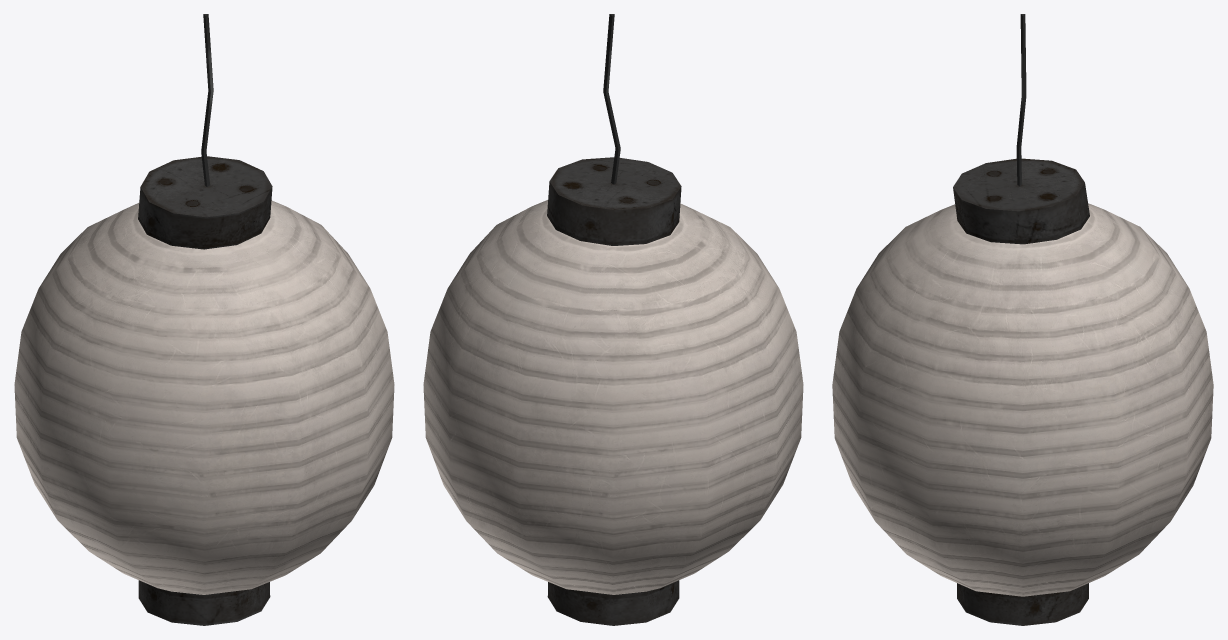
The model's file is Lantern_C.fbx.
3 renders of one model, left to right at view 1: azimuth 30°, elevation 25°; view 2: azimuth 150°, elevation 25°; view 3: azimuth 270°, elevation 25°, orthographic.
Visible parts, largest first — view 1: Lantern_C; view 2: Lantern_C; view 3: Lantern_C.
Part boxes in pixels (x1=…): Lantern_C: x1=14, y1=14, x2=394, y2=625; Lantern_C: x1=423, y1=14, x2=803, y2=625; Lantern_C: x1=832, y1=14, x2=1213, y2=625.
Size of the model in its own units: 40.26 by 68.21 by 40.26.
Materials: 1 (1 with a texture image).
